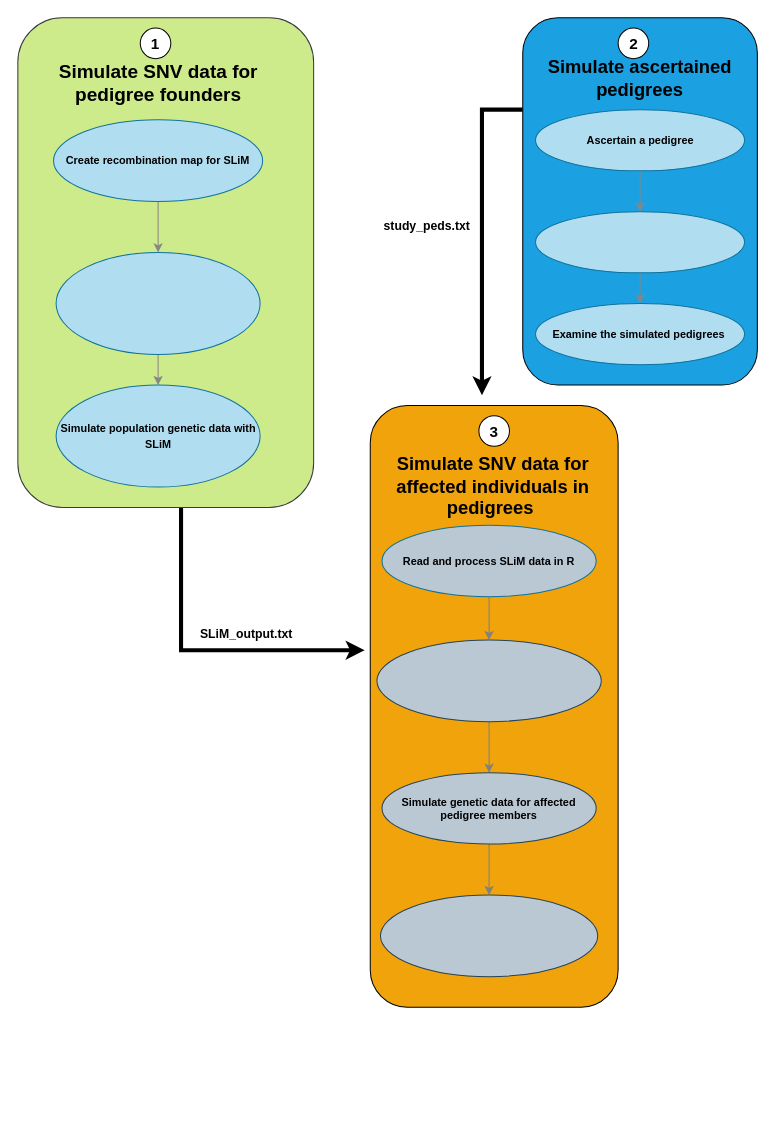
The diagram is 780 pixels wide and 1122 high, and some of its shapes have lost their labels. Here are the shapes that lost their labels. From the top down, the centre of each, then its label:
At (x=639, y=242): "Simulate pedigrees on the Compute Canada cluster".
At (x=157, y=302): "Specify the demographic model".
At (x=488, y=680): "Select causal variants".
At (x=488, y=935): "Generate data files".
